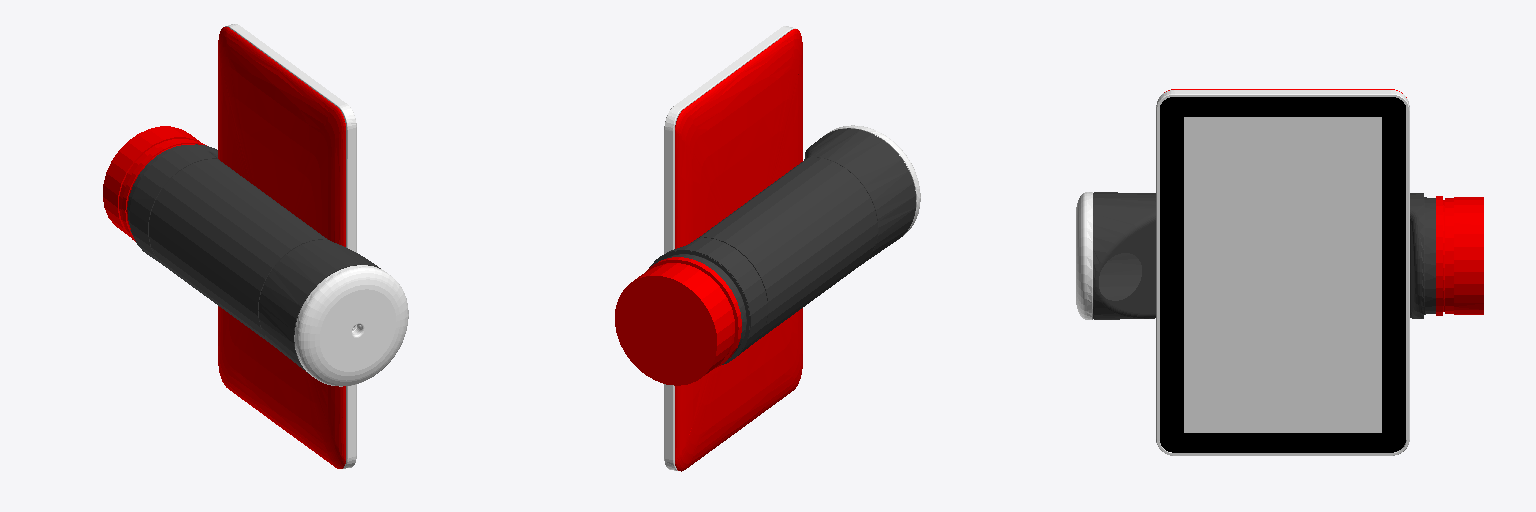
The model's file is head.obj.
3 views of the same model, side by side, from view 1: azimuth 30°, elevation 25°; view 2: azimuth 150°, elevation 25°; view 3: azimuth 270°, elevation 25° (orthographic).
Visible parts, largest first — view 1: _3DGeom_275_geo_1, _3DGeom_279_geo_5, _3DGeom_278_geo_4; view 2: _3DGeom_275_geo_1, _3DGeom_279_geo_5, _3DGeom_278_geo_4; view 3: _3DGeom_278_geo_4, _3DGeom_276_geo_2, _3DGeom_279_geo_5.
Part boxes in pixels (x1,y1,x2,y2): _3DGeom_275_geo_1: (218, 27, 345, 468); _3DGeom_279_geo_5: (122, 140, 380, 373); _3DGeom_278_geo_4: (103, 24, 408, 468); _3DGeom_275_geo_1: (675, 29, 802, 471); _3DGeom_279_geo_5: (646, 128, 915, 368); _3DGeom_278_geo_4: (615, 26, 920, 470); _3DGeom_278_geo_4: (1076, 90, 1483, 455); _3DGeom_276_geo_2: (1160, 97, 1405, 452); _3DGeom_279_geo_5: (1093, 192, 1442, 319).
Bounding box in the file's own units: 0.0819 × 0.256 × 0.2612.